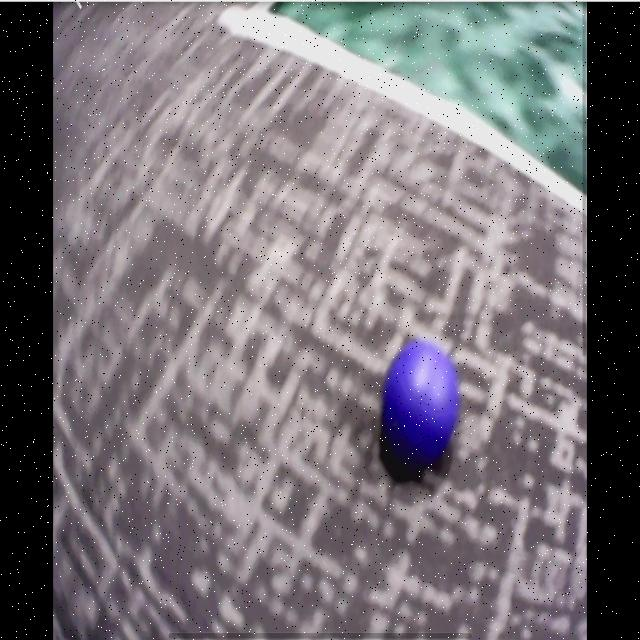ball: (386, 342, 457, 452)
